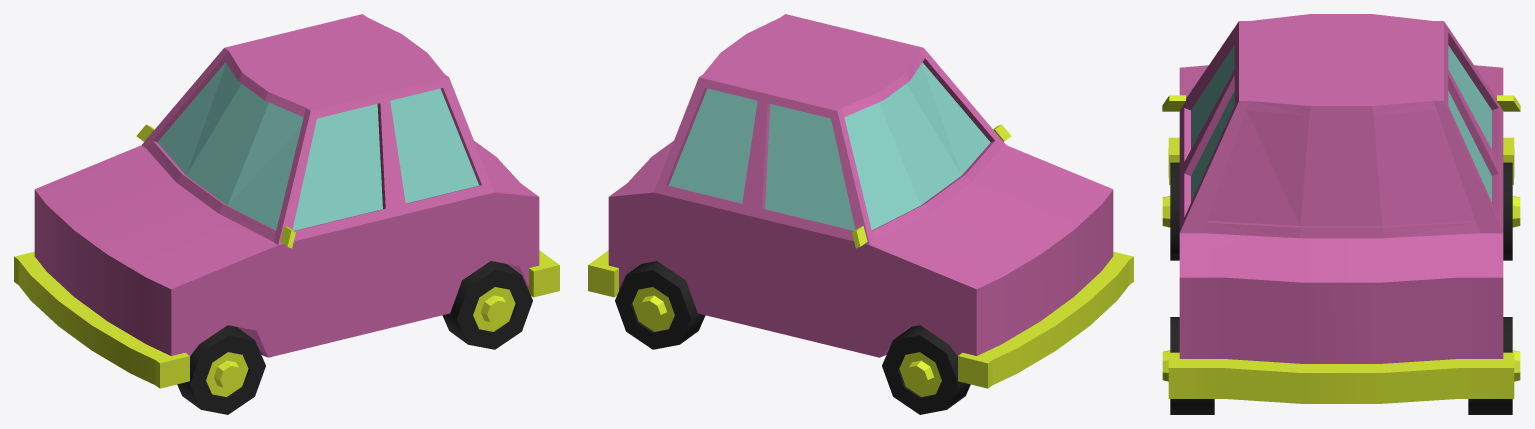
The model's file is carcar.FBX.
3 views of the same model, side by side, from view 1: azimuth 30°, elevation 25°; view 2: azimuth 150°, elevation 25°; view 3: azimuth 270°, elevation 25° (orthographic). The views are drawn at different scales.
Parts seen in each view (by area): view 1: carcar; view 2: carcar; view 3: carcar.
Part boxes in pixels (x1,y1,x2,y2): carcar: [14, 14, 559, 414]; carcar: [588, 14, 1133, 414]; carcar: [1162, 14, 1520, 414].
Bounding box in the file's own units: 80 × 46.38 × 49.82.
